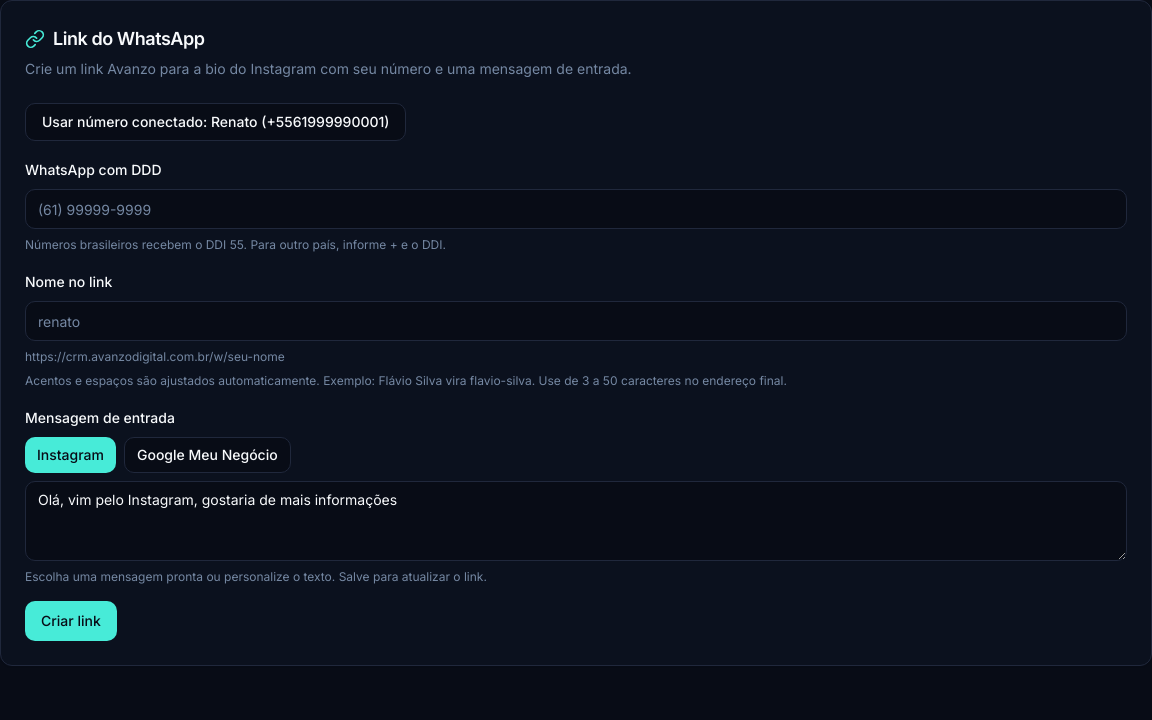
Test: WhatsApp bio links › allows a manual override without continuing to label it as the connected number
This screenshot has width=1152, height=720.
Later steps or results of the test are not shown.
Click the button "Usar número conectado: Renato (+5561999990001)" at (216, 122), box [25,103,406,141]
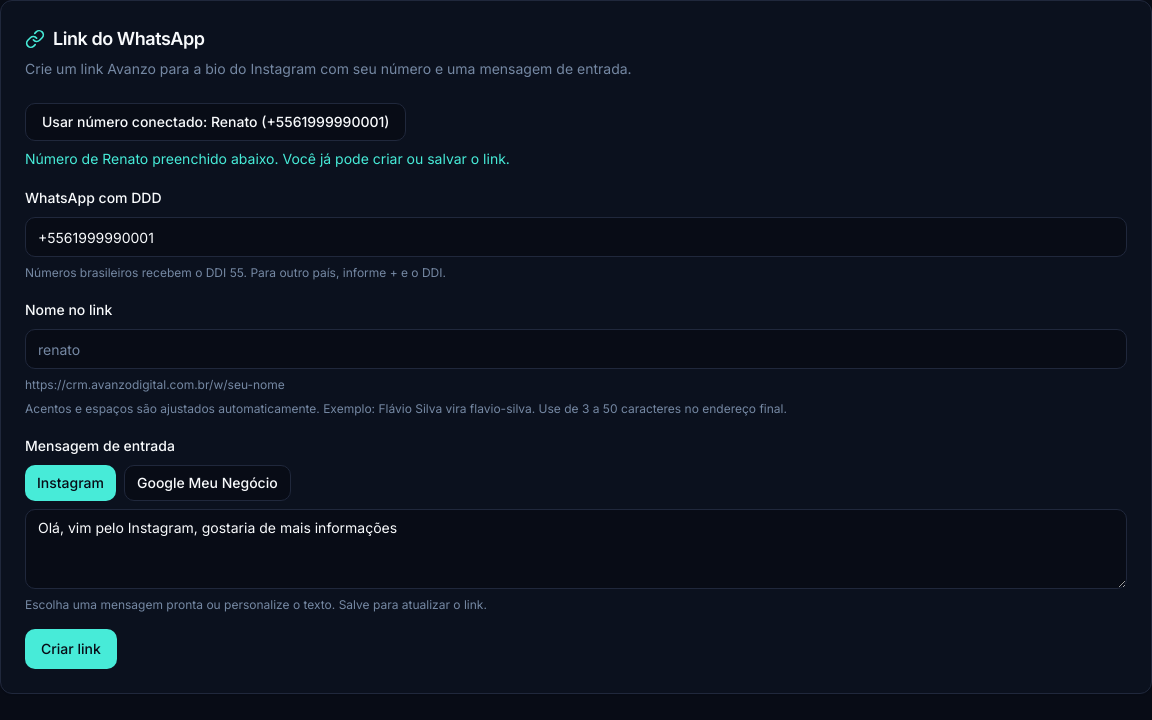
Now the field labelled "WhatsApp com DDD" holds "+5561999990001"
Replace the text in the field labelled "WhatsApp com DDD" with "61988880002" at (576, 237), box [25,217,1127,257]
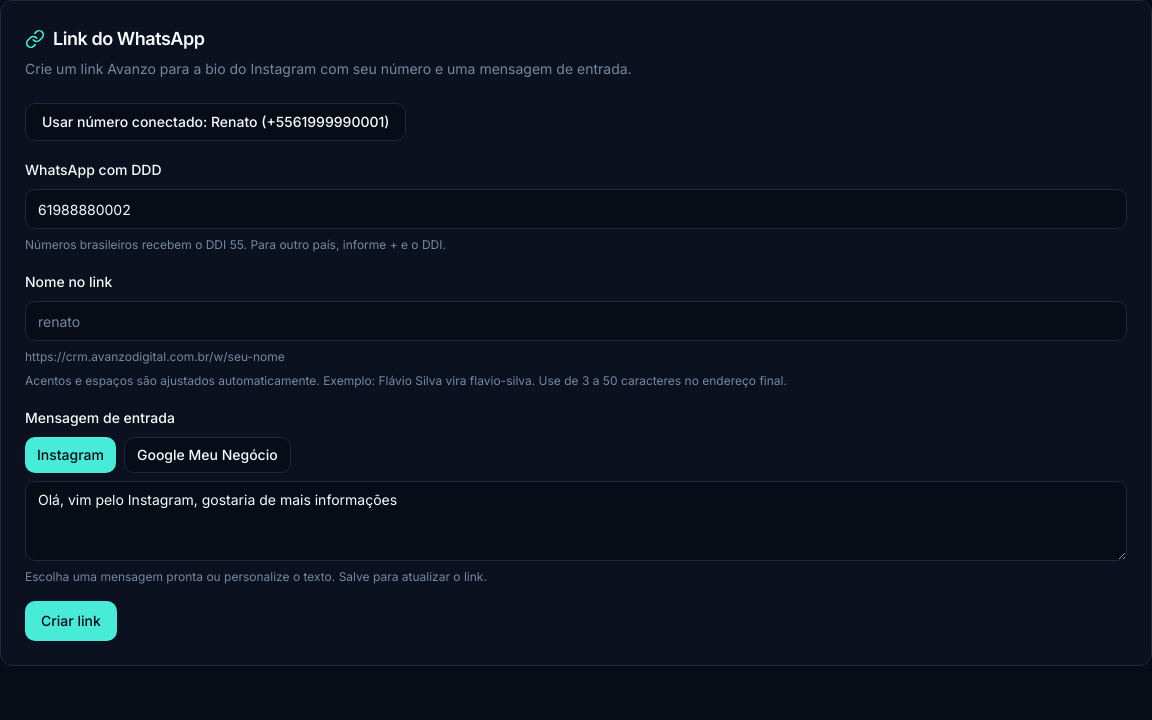
Now the message "Número de Renato preenchido abaixo. Você já pode criar ou salvar o link." is gone
